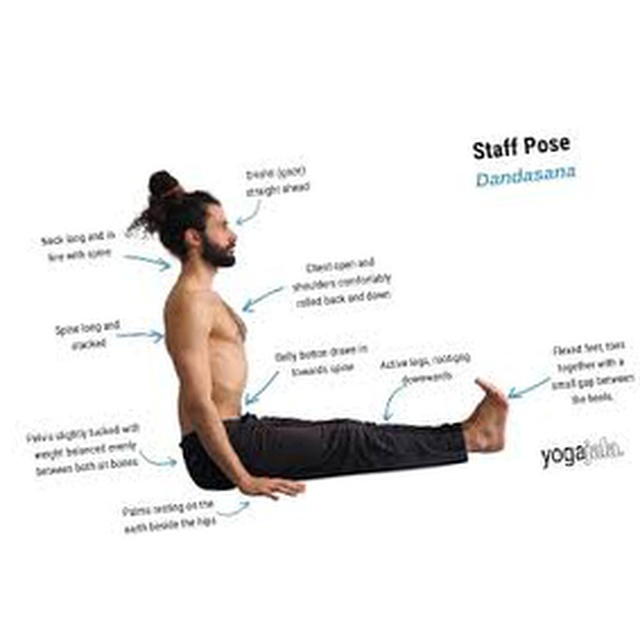Staff_Pose: (124, 170, 511, 501)
